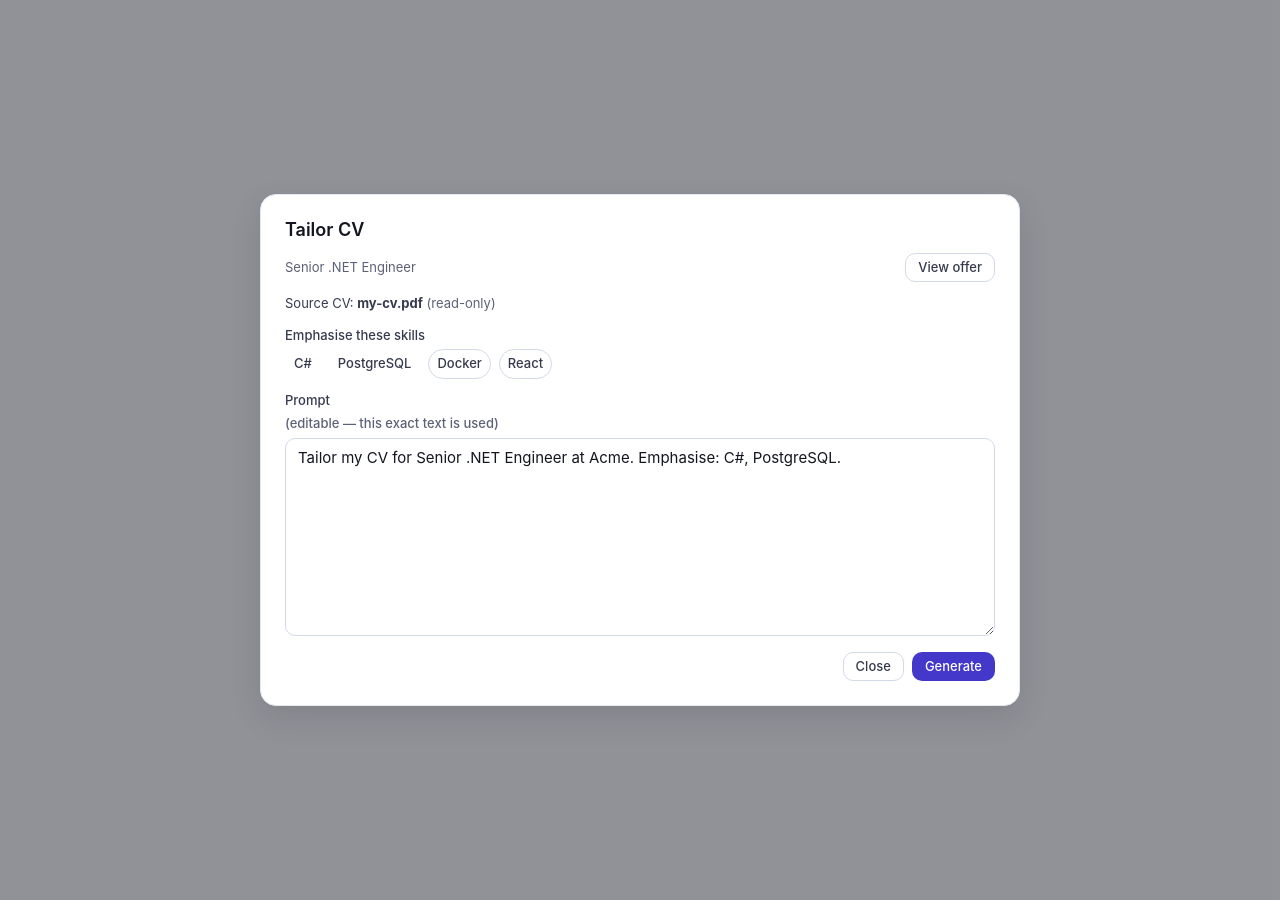
TailorCvModal — draft + generate (US1, T031) › Generate posts the prompt + selection and shows pending
Expected: the text box with test id "tailor-prompt" is shown, 285,438 -> 995,636
Click the button "Generate". click: coordinates (953, 666)
box: 912,652 -> 995,681
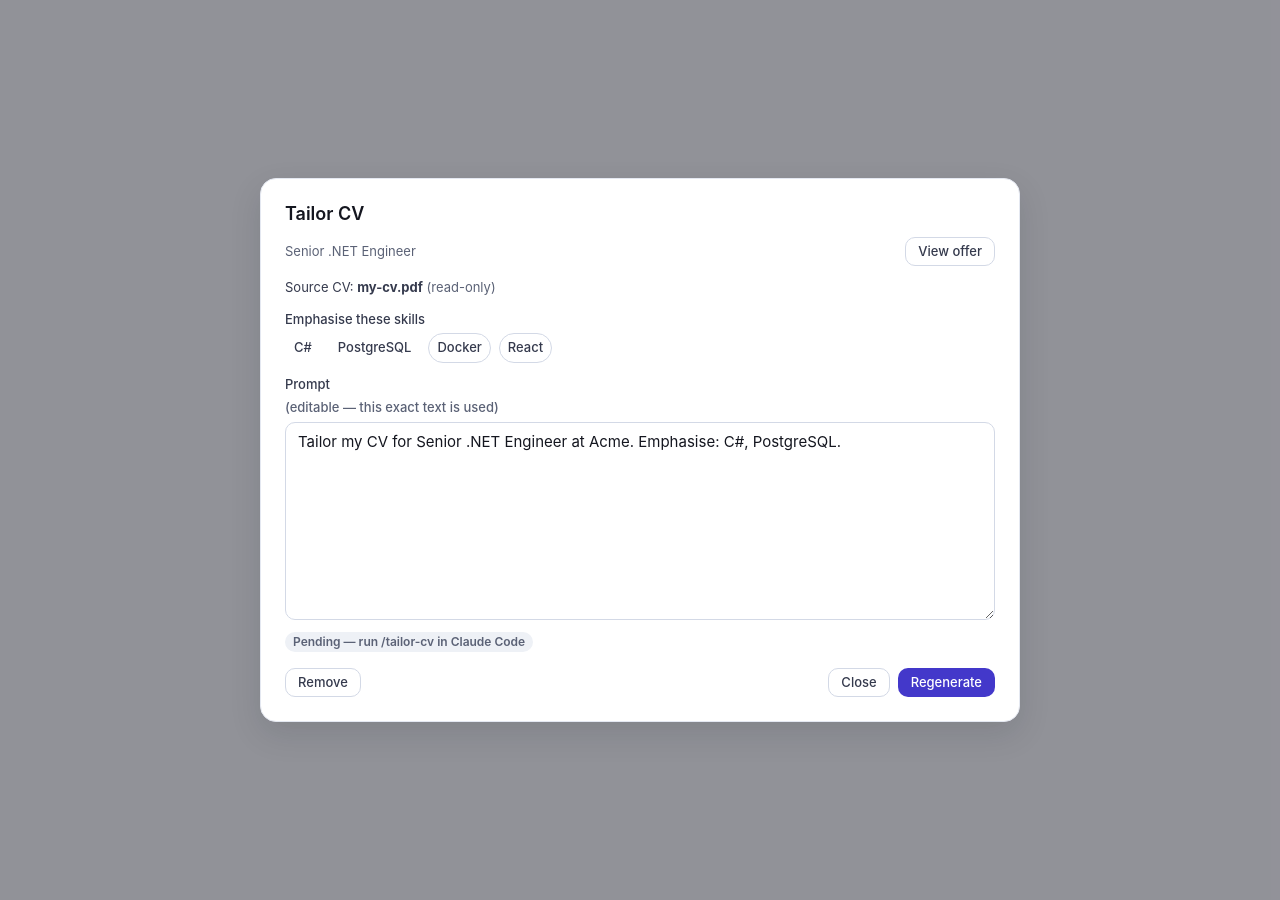
Result: the element with test id "tailor-status" shows "Pending" at 293,634 -> 525,648
